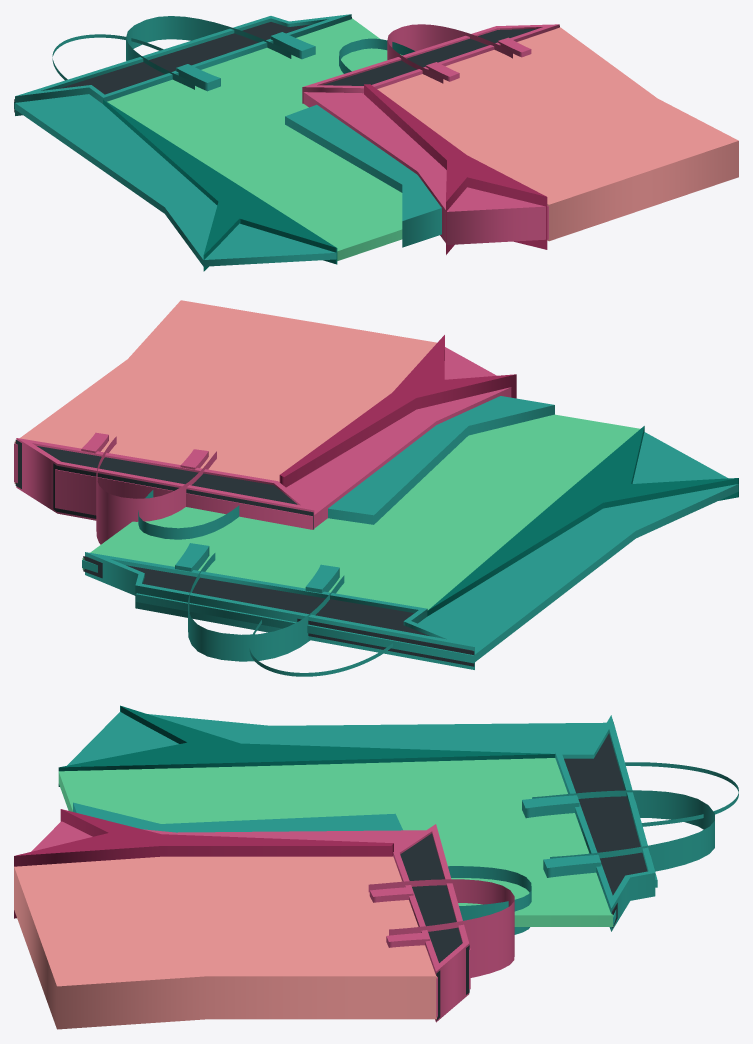
File: emoji_u1f6cd.glb
3 views of the same model, one above another, from view 1: azimuth 30°, elevation 25°; view 2: azimuth 150°, elevation 25°; view 3: azimuth 270°, elevation 25° (orthographic). The views are drawn at different scales.
Parts seen in each view (by area): view 1: emoji_u1f6cd; view 2: emoji_u1f6cd; view 3: emoji_u1f6cd.
Boxes of the visible parts, x1=… form: emoji_u1f6cd: x1=14, y1=14, x2=738, y2=271; emoji_u1f6cd: x1=14, y1=300, x2=738, y2=676; emoji_u1f6cd: x1=14, y1=705, x2=738, y2=1029.
Size of the model in its own units: 0.0321 by 0.0032 by 0.0336.
